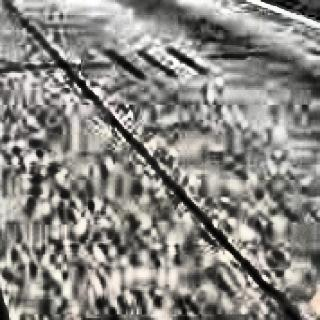crack: (25, 24, 302, 320)
